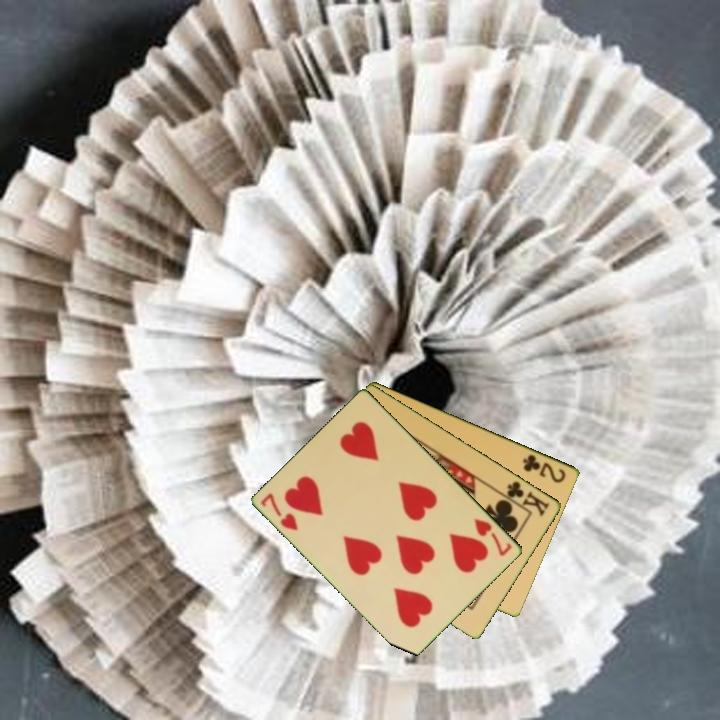2c: (519, 450, 569, 486)
7h: (471, 514, 516, 559), (257, 490, 301, 533)
Kc: (497, 477, 553, 519)
